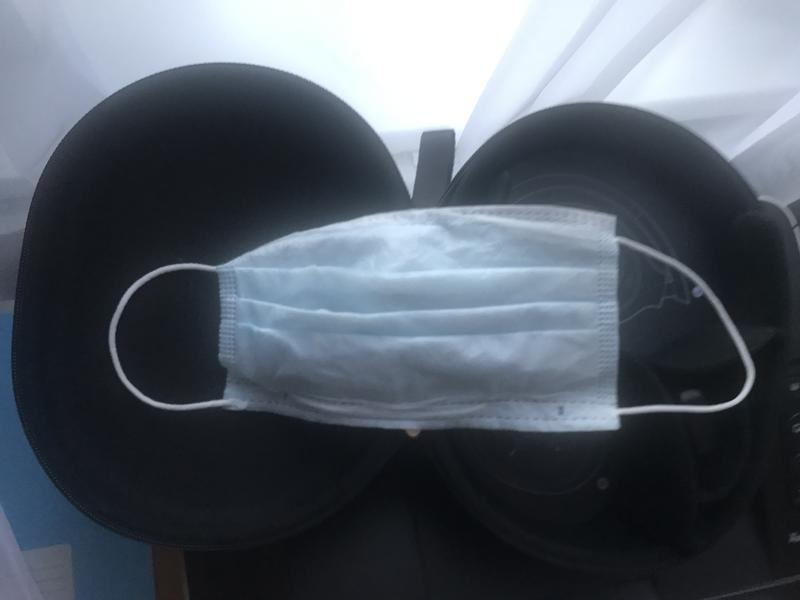medical_mask: (108, 206, 757, 432)
